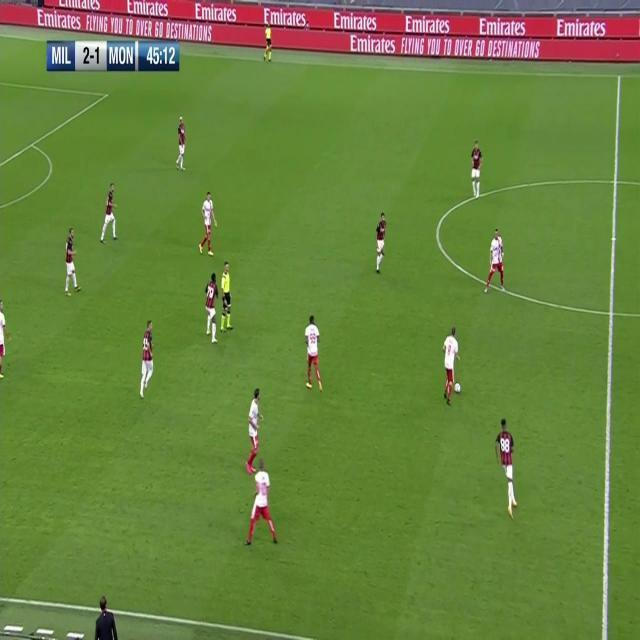ball: (455, 381, 462, 395)
player: (245, 459, 279, 549), (496, 417, 521, 515), (244, 384, 265, 471), (304, 313, 325, 394), (484, 227, 507, 296), (441, 325, 460, 407), (138, 317, 156, 402), (62, 225, 81, 297), (198, 189, 218, 257), (99, 181, 120, 245), (204, 270, 220, 342), (373, 211, 387, 274), (470, 137, 483, 201), (175, 114, 187, 172), (0, 303, 5, 380)
referee: (220, 261, 234, 333), (263, 17, 273, 64)
